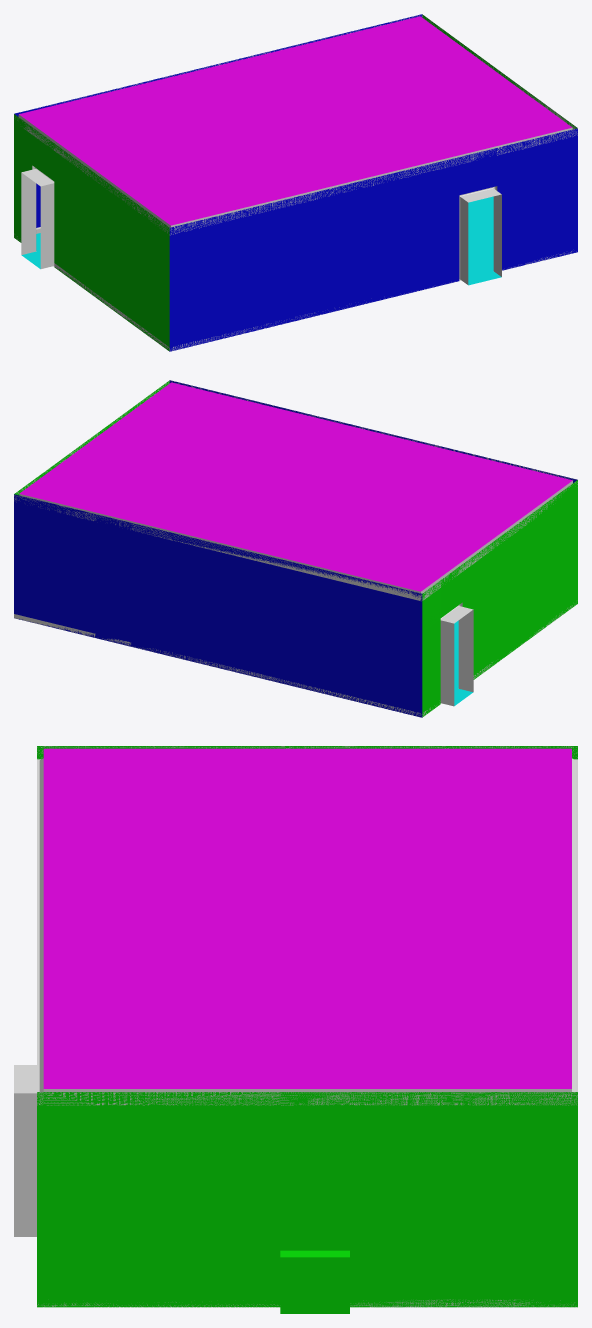
Rendered from Livingroom.fbx.
The picture shows the model from 3 angles, top to bottom: view 1: azimuth 30°, elevation 25°; view 2: azimuth 150°, elevation 25°; view 3: azimuth 270°, elevation 25°; orthographic projection. The views are drawn at different scales.
Visible parts, largest first — view 1: Livingroom; view 2: Livingroom; view 3: Livingroom.
Boxes of the visible parts, x1,y1,x2,y2 form: Livingroom: (14, 14, 577, 351); Livingroom: (14, 380, 577, 717); Livingroom: (14, 746, 577, 1313).
Bounding box in the file's own units: 1107 × 306 × 727.
